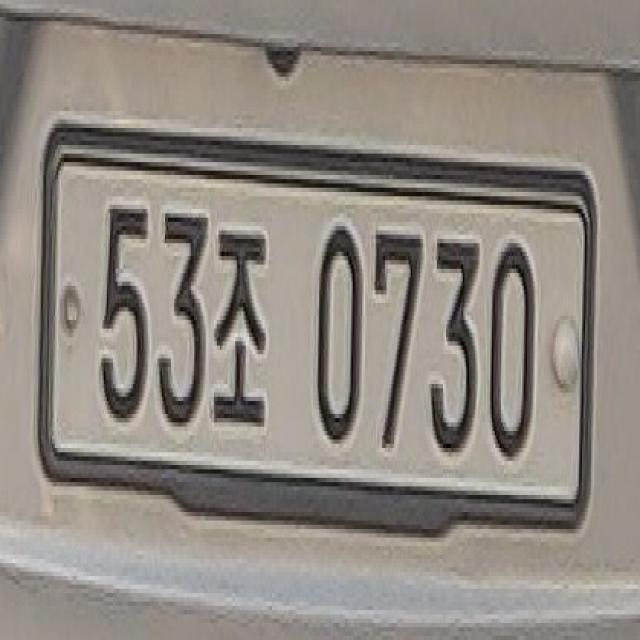0: (306, 201, 366, 444), (488, 235, 546, 465)
3: (153, 154, 211, 444), (426, 218, 486, 448)
5: (87, 188, 157, 426)
7: (364, 201, 422, 448)
jo: (212, 196, 276, 440)
license_plate: (31, 107, 598, 533)
